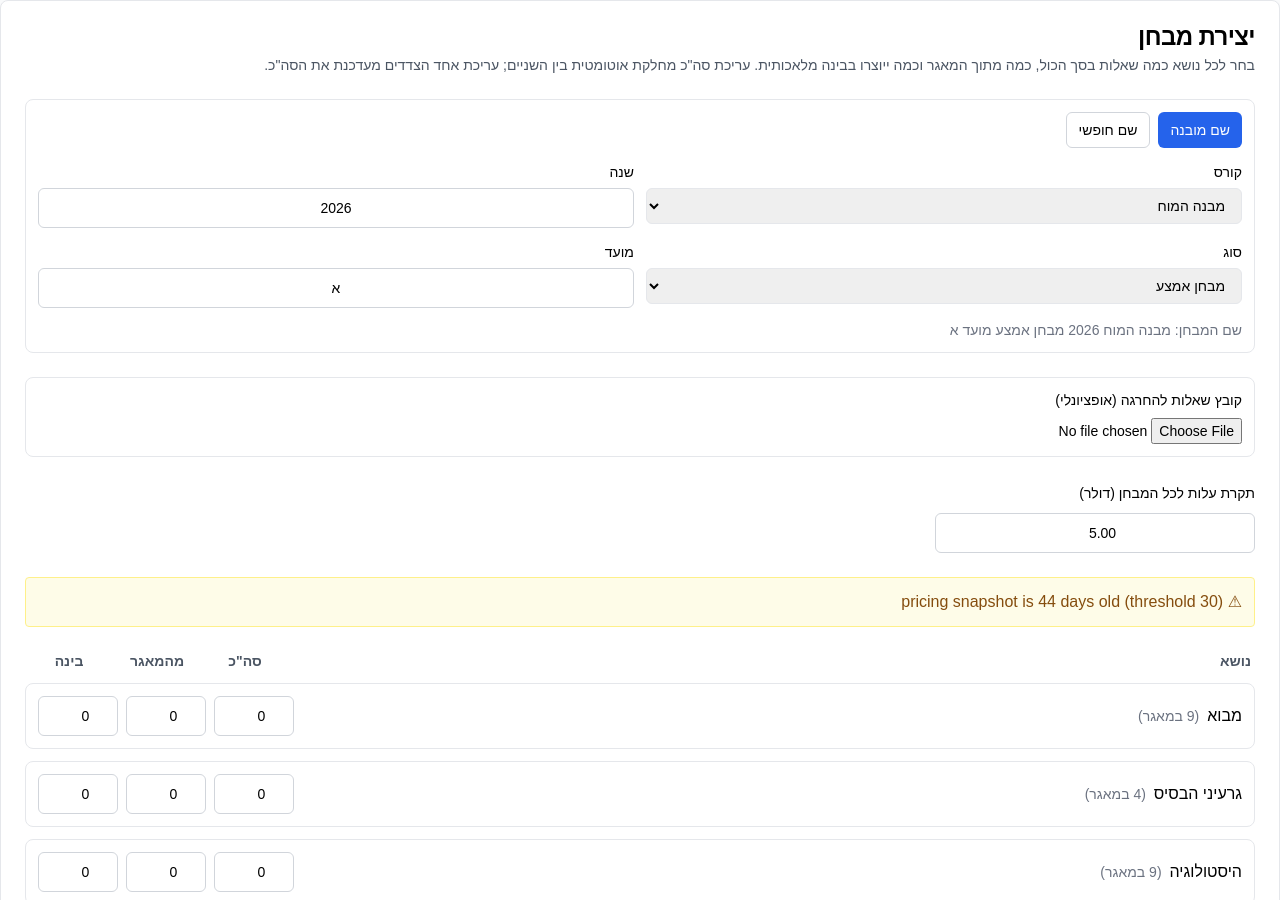
Test: builder › stale-pricing warning is shown and does not block
This screenshot has width=1280, height=900.
Replace the text in the number field named "סה\"כ שאלות עבור מבוא" with "4" at (254, 716), box [214, 696, 294, 736]
(page scrolled)
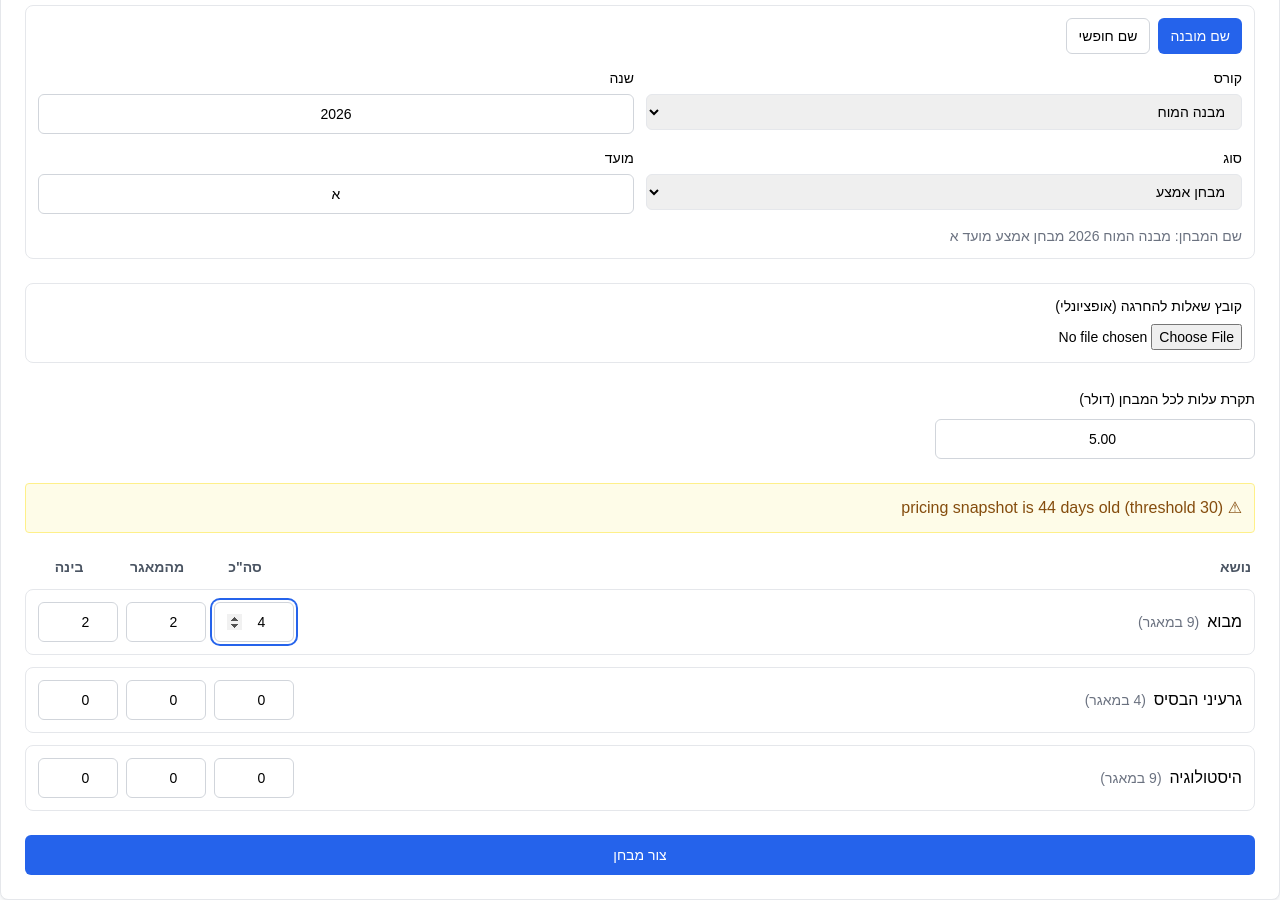
expect the text "⚠ pricing snapshot is 44 days old (threshold 30)" is shown: met, box [901, 499, 1242, 516]
expect the button "צור מבחן" is enabled: met, box [25, 835, 1255, 875]
